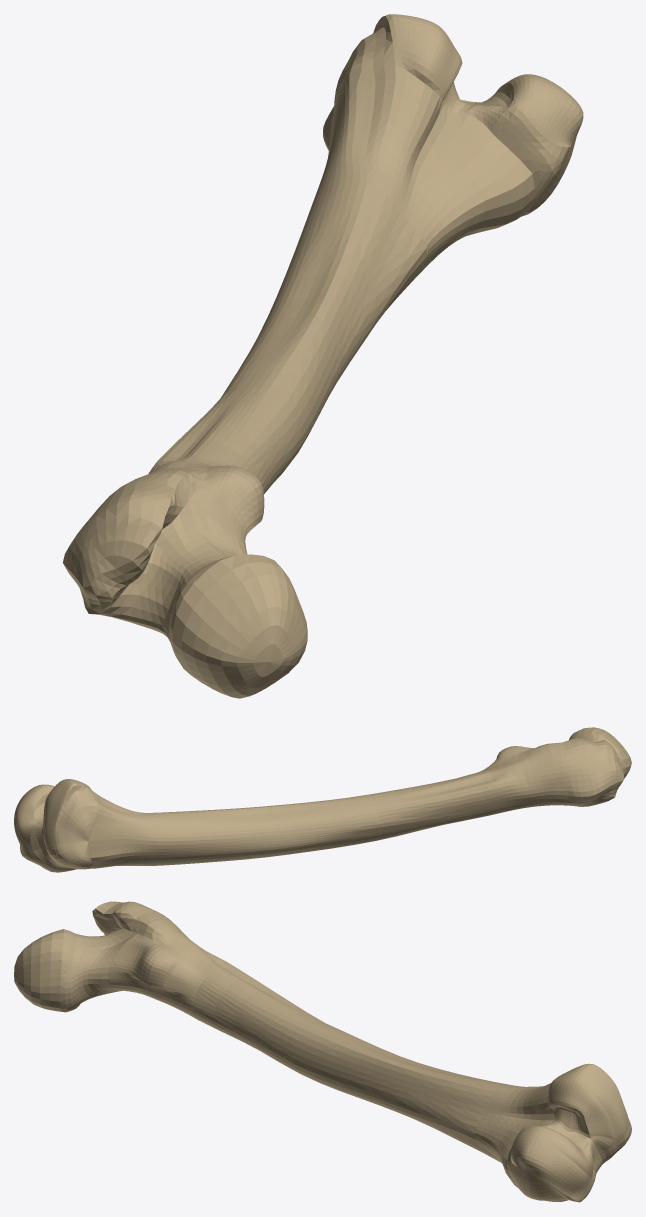
Rendered from bone.fbx.
The picture shows the model from 3 angles, top to bottom: view 1: azimuth 30°, elevation 25°; view 2: azimuth 150°, elevation 25°; view 3: azimuth 270°, elevation 25°; orthographic projection. The views are drawn at different scales.
Parts seen in each view (by area): view 1: FEMUR; view 2: FEMUR; view 3: FEMUR.
Boxes of the visible parts, box(x1,y1,x2,y2) form: FEMUR: box(63, 14, 583, 698); FEMUR: box(14, 727, 631, 872); FEMUR: box(14, 901, 631, 1202).
Size of the model in its own units: 520 by 117 by 547.
